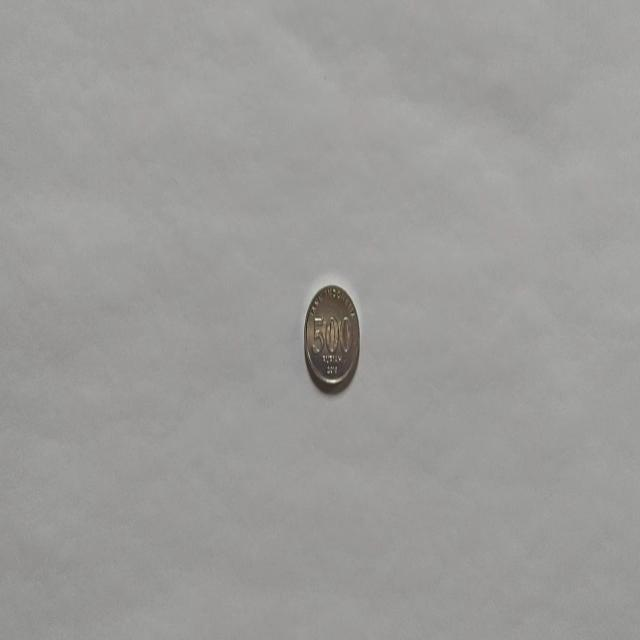lima ratus rupiah: (302, 283, 360, 393)
